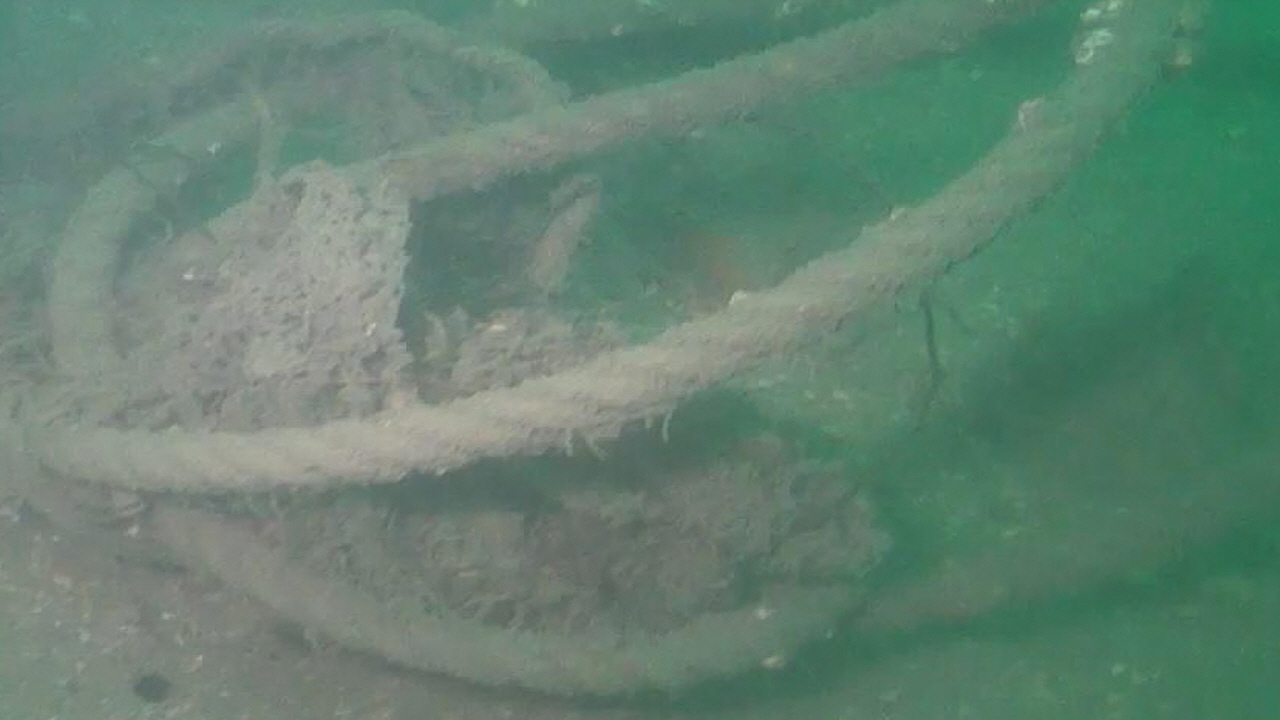bundle of ropes: (42, 0, 1190, 695)
